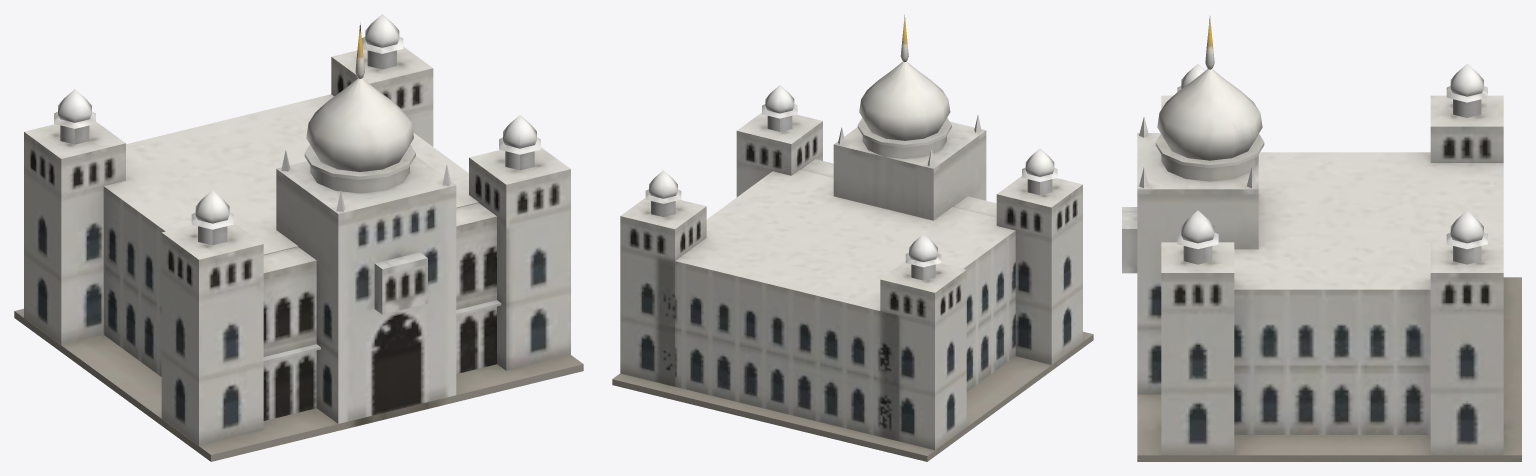
The model's file is assembly.glb.
3 renders of one model, left to right at view 1: azimuth 30°, elevation 25°; view 2: azimuth 150°, elevation 25°; view 3: azimuth 270°, elevation 25°, orthographic. The views are drawn at different scales.
Parts seen in each view (by area): view 1: assembly_body; view 2: assembly_body; view 3: assembly_body.
Part boxes in pixels (<box>): assembly_body: <box>14,14,583,461</box>; assembly_body: <box>612,15,1093,461</box>; assembly_body: <box>1122,15,1521,461</box>.
Size of the model in its own units: 70.3 by 66.22 by 66.85.
1 material, 1 textured.
